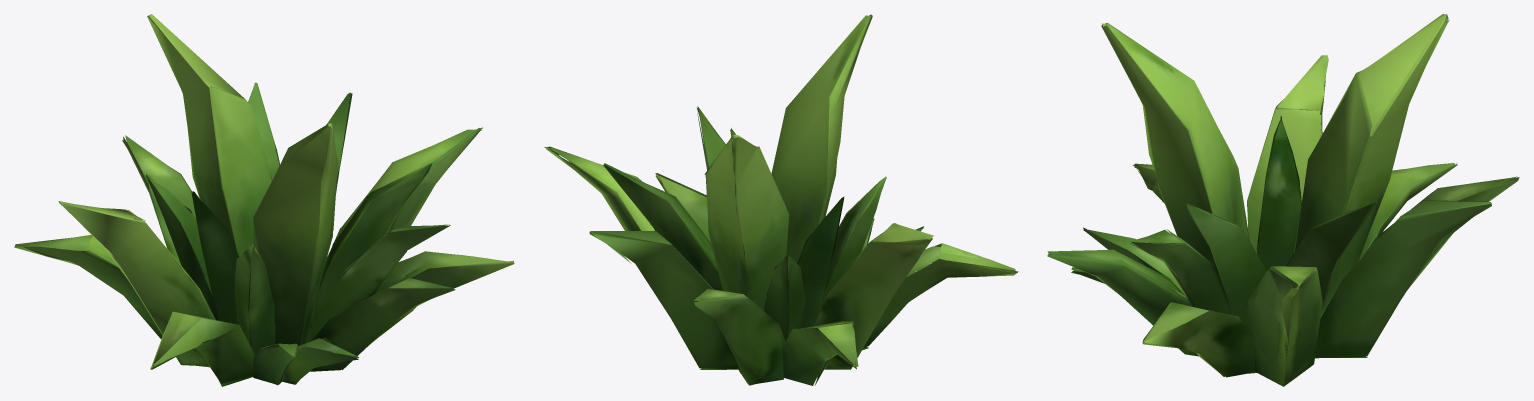
Rendered from grass_gen_a.glb.
3 views of the same model, side by side, from view 1: azimuth 30°, elevation 25°; view 2: azimuth 150°, elevation 25°; view 3: azimuth 270°, elevation 25° (orthographic). The views are drawn at different scales.
Parts seen in each view (by area): view 1: grass_gen; view 2: grass_gen; view 3: grass_gen.
Part boxes in pixels (bbox=[...]): grass_gen: bbox=[14, 14, 514, 386]; grass_gen: bbox=[544, 14, 1018, 385]; grass_gen: bbox=[1047, 14, 1519, 386].
Bounding box in the file's own units: 2.21 × 1.51 × 2.05.
1 material, 1 textured.
